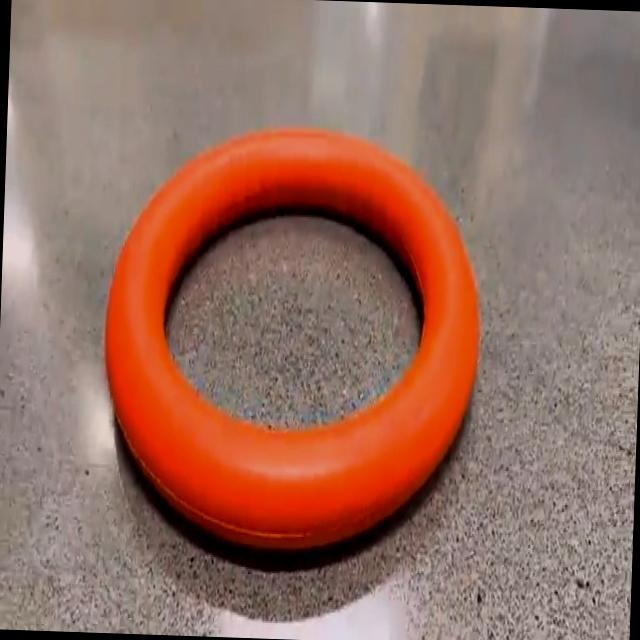note: (105, 128, 479, 548)
